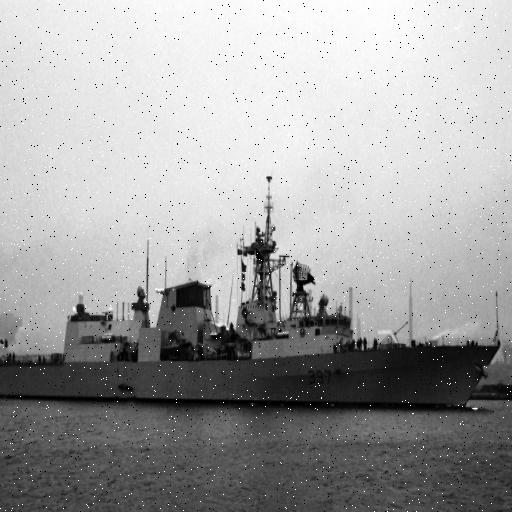Fragata: (1, 157, 505, 417)
